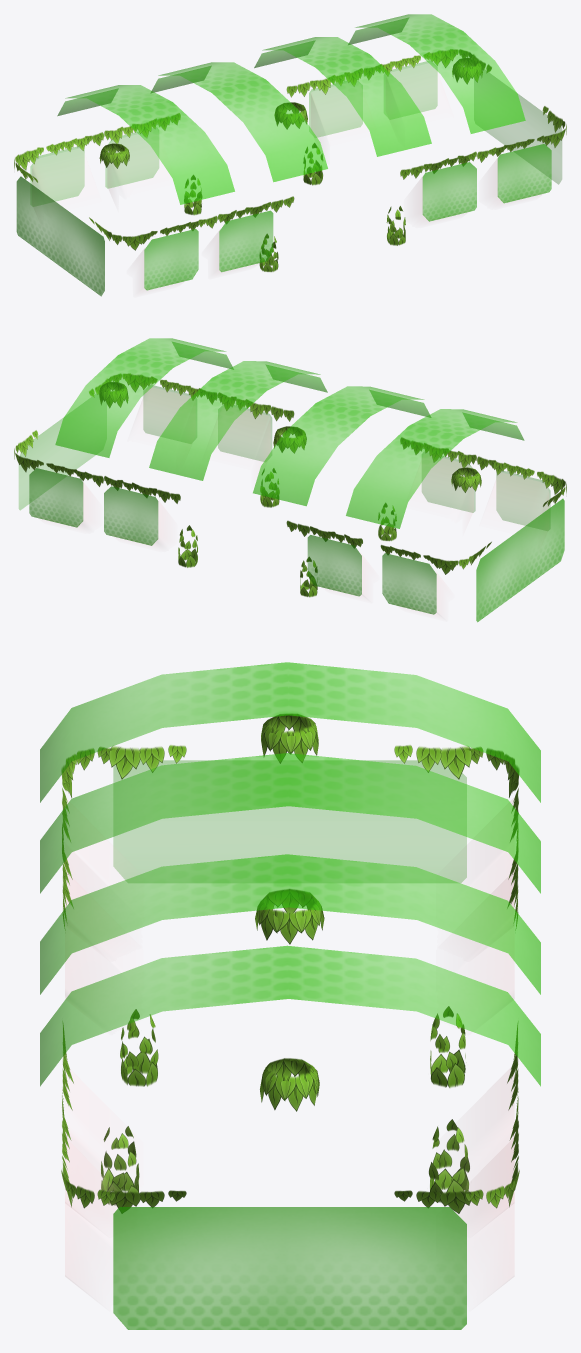
The model's file is forest_tram_windows.glb.
The picture shows the model from 3 angles, top to bottom: view 1: azimuth 30°, elevation 25°; view 2: azimuth 150°, elevation 25°; view 3: azimuth 270°, elevation 25°; orthographic projection. The views are drawn at different scales.
Visible parts, largest first — view 1: forest_tram_windows; view 2: forest_tram_windows; view 3: forest_tram_windows.
Boxes of the visible parts, x1=… form: forest_tram_windows: x1=14, y1=14, x2=566, y2=296; forest_tram_windows: x1=14, y1=338, x2=566, y2=622; forest_tram_windows: x1=40, y1=662, x2=540, y2=1329.
Bounding box in the file's own units: 14.25 × 4.87 × 6.72.
1 material, 1 textured.
